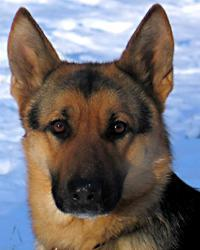German_shepherd: (6, 2, 199, 249)
